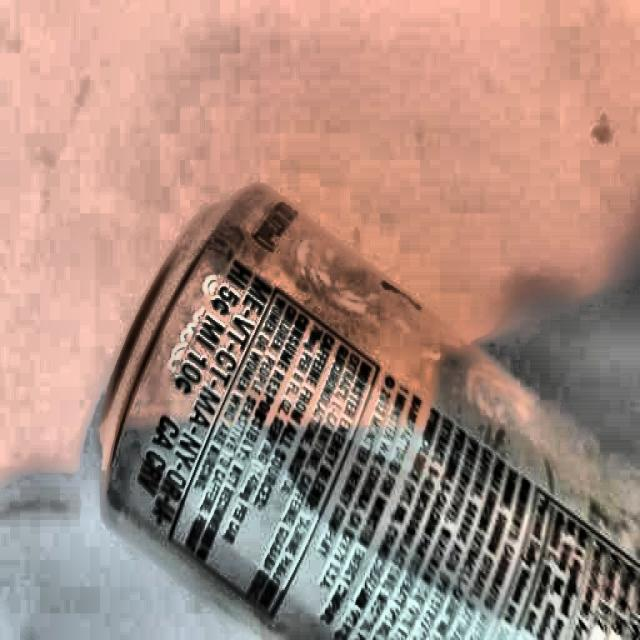metal: (99, 186, 640, 640)
